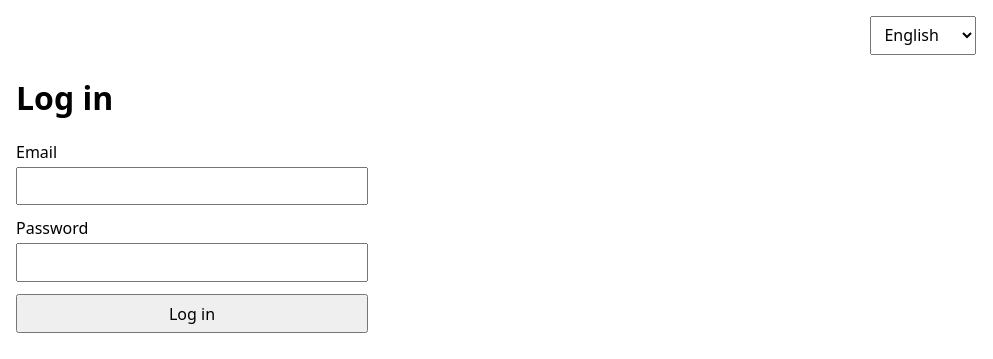
Test case: login page has a language switcher that changes visible text
Select "繁體中文" in the dropdown at point(923, 35), box [870, 16, 976, 55]
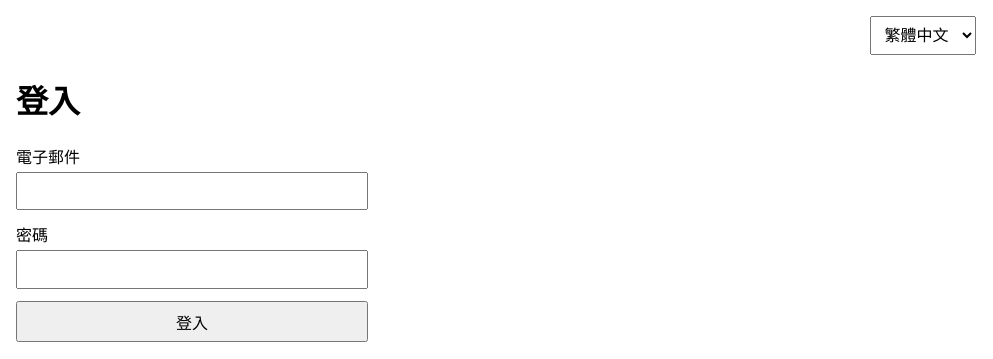
Expected: the heading "登入" is shown, [16, 79, 80, 122]
Select "English" in the dropdown at point(923, 35), box [870, 16, 976, 55]
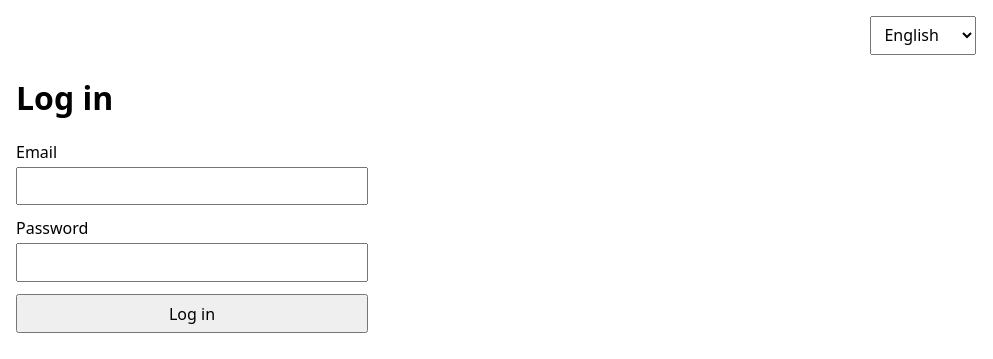
Expected: the heading "Log in" is shown, [16, 76, 113, 119]
